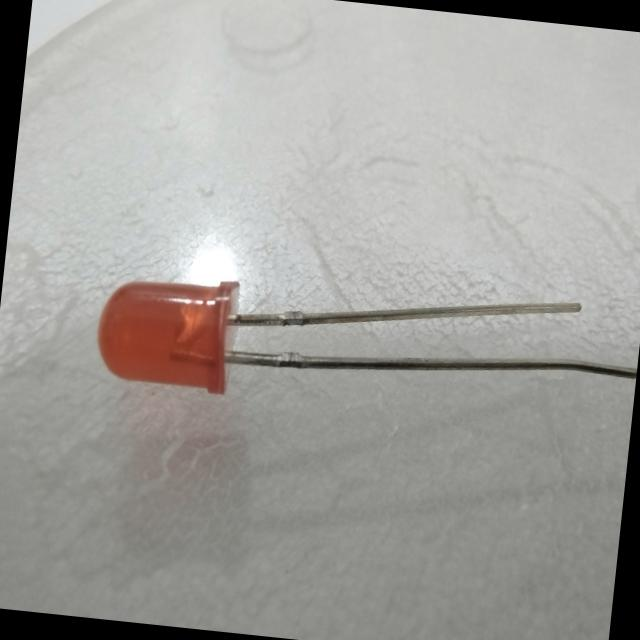red_led: (72, 261, 258, 418)
